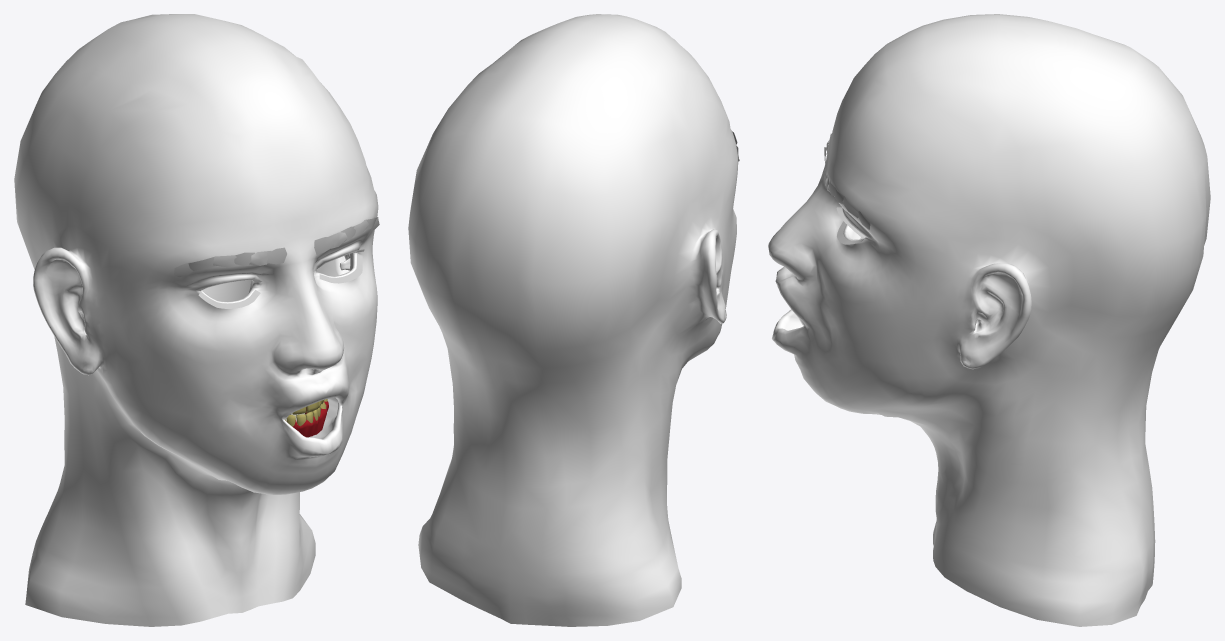
The model's file is mouthFunnel.obj.
The picture shows the model from 3 angles, left to right: view 1: azimuth 30°, elevation 25°; view 2: azimuth 150°, elevation 25°; view 3: azimuth 270°, elevation 25°; orthographic projection. The views are drawn at different scales.
Parts seen in each view (by area): view 1: FaceMesh_Plane.003; view 2: FaceMesh_Plane.003; view 3: FaceMesh_Plane.003.
Part boxes in pixels (x1,y1,x2,y2): FaceMesh_Plane.003: (14,14,379,626); FaceMesh_Plane.003: (408,14,739,626); FaceMesh_Plane.003: (768,14,1210,626).
Size of the model in its own units: 1.54 by 2.71 by 1.94.
Materials: 5 (1 with a texture image).
